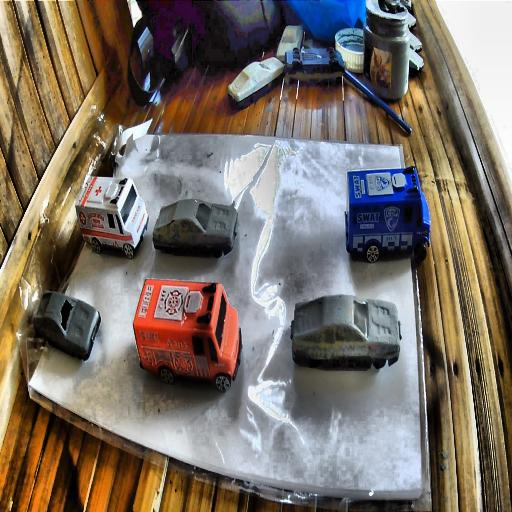ambulance: (76, 174, 149, 259)
fire_truck: (133, 280, 243, 392)
normal_car: (291, 294, 399, 370), (152, 198, 240, 260), (33, 291, 100, 363), (229, 58, 282, 106)
police car: (345, 165, 431, 265)
